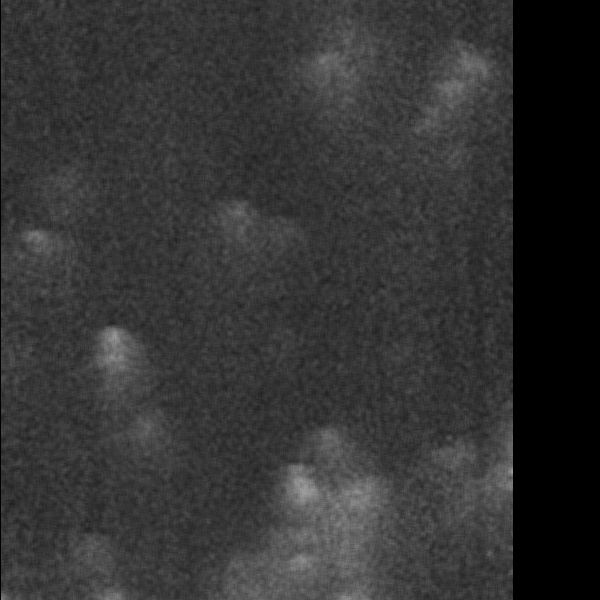spark: (443, 39, 503, 161), (93, 321, 131, 462), (296, 49, 360, 95), (305, 424, 352, 462), (21, 228, 48, 282)
